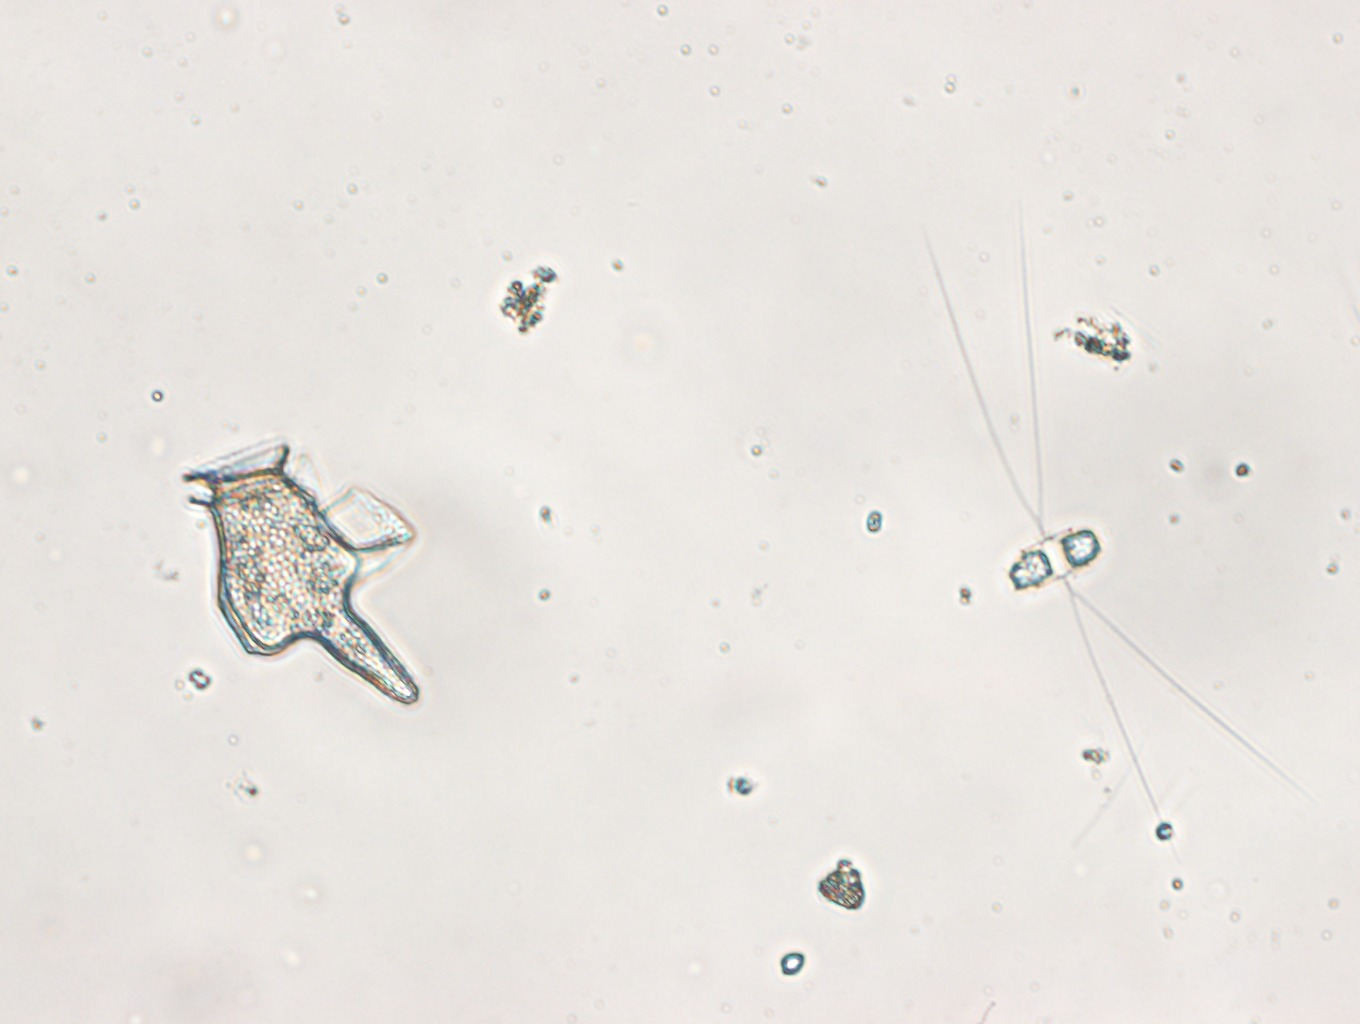chaetoceros: (918, 203, 1308, 820)
dinophysis caudata: (184, 436, 424, 705)
